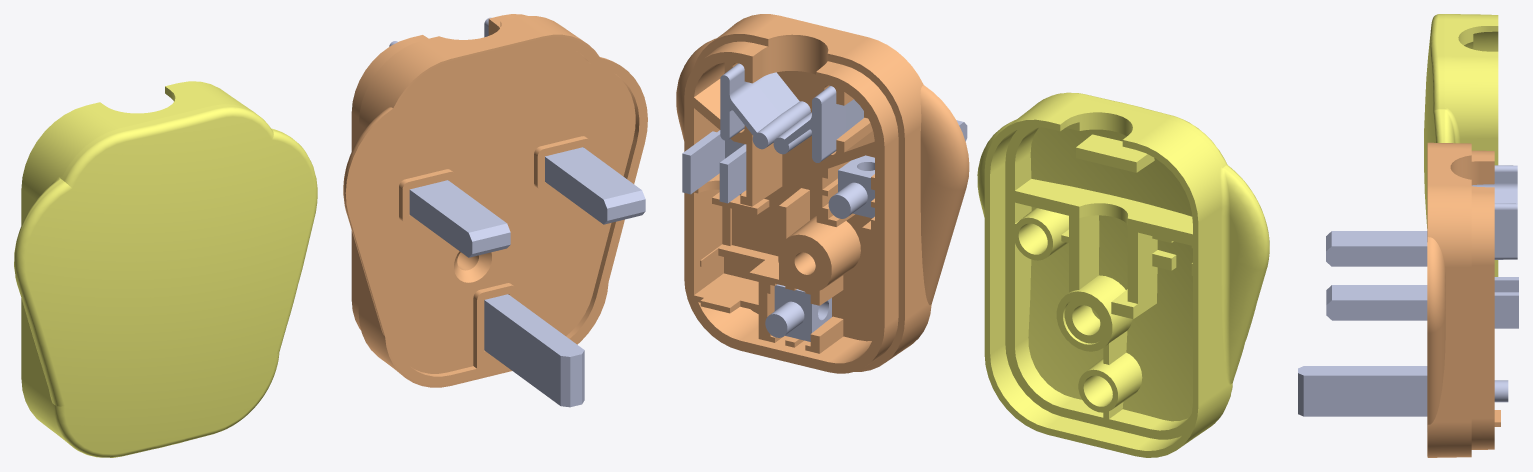
Rendered from Plug top.gltf.
3 views of the same model, side by side, from view 1: azimuth 30°, elevation 25°; view 2: azimuth 150°, elevation 25°; view 3: azimuth 270°, elevation 25° (orthographic). The views are drawn at different scales.
Visible parts, largest first — view 1: TC (2.19.27), BC (2.19.27), E (2.19.27), N (2.19.27), L (2.19.27); view 2: TC (2.19.27), BC (2.19.27), Wire Holder (2.19.27)001, L (2.19.27), Wire Holder (2.19.27), E (2.19.27), N (2.19.27); view 3: BC (2.19.27), TC (2.19.27), E (2.19.27), L (2.19.27), N (2.19.27), Wire Holder (2.19.27)001, Wire Holder (2.19.27).
Part boxes in pixels (x1=…): TC (2.19.27): x1=14, y1=81, x2=317, y2=457; BC (2.19.27): x1=343, y1=14, x2=647, y2=387; E (2.19.27): x1=484, y1=294, x2=584, y2=407; N (2.19.27): x1=409, y1=180, x2=510, y2=257; L (2.19.27): x1=545, y1=147, x2=645, y2=224; TC (2.19.27): x1=977, y1=92, x2=1269, y2=457; BC (2.19.27): x1=676, y1=14, x2=969, y2=373; Wire Holder (2.19.27)001: x1=720, y1=63, x2=810, y2=149; L (2.19.27): x1=682, y1=130, x2=746, y2=203; Wire Holder (2.19.27): x1=773, y1=86, x2=863, y2=162; E (2.19.27): x1=765, y1=284, x2=831, y2=341; N (2.19.27): x1=828, y1=120, x2=967, y2=218; BC (2.19.27): x1=1427, y1=142, x2=1500, y2=457; TC (2.19.27): x1=1424, y1=14, x2=1498, y2=276; E (2.19.27): x1=1298, y1=366, x2=1508, y2=416; L (2.19.27): x1=1326, y1=277, x2=1518, y2=328; N (2.19.27): x1=1326, y1=231, x2=1427, y2=266; Wire Holder (2.19.27)001: x1=1494, y1=203, x2=1517, y2=259; Wire Holder (2.19.27): x1=1471, y1=165, x2=1517, y2=203.
Bounding box in the file's own units: 0.1023 × 0.0515 × 0.0385.
